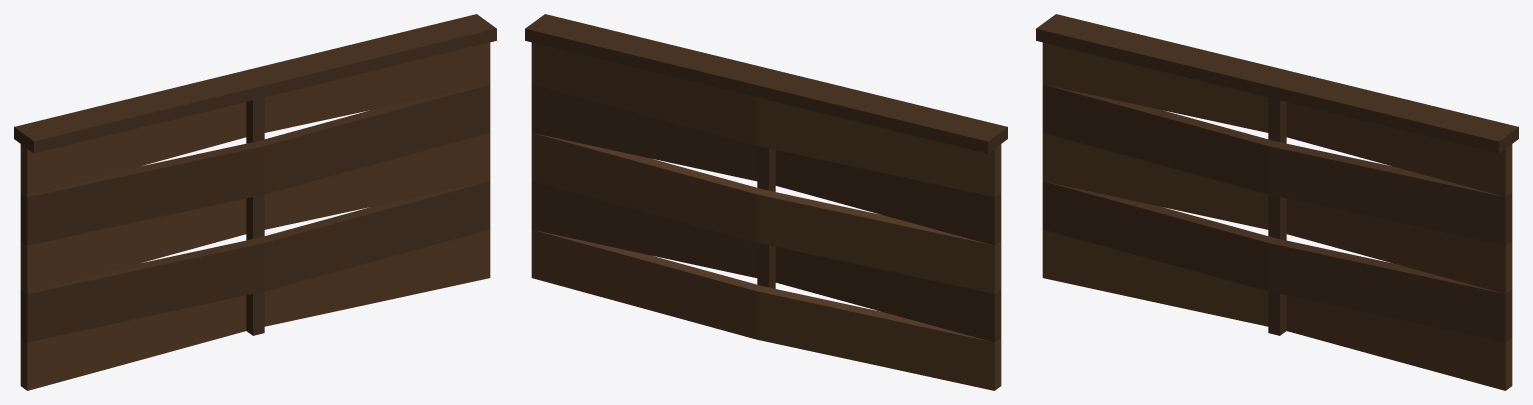
File: Fence_13_Dark_Brown.fbx
3 views of the same model, side by side, from view 1: azimuth 30°, elevation 25°; view 2: azimuth 150°, elevation 25°; view 3: azimuth 330°, elevation 25° (orthographic).
Parts seen in each view (by area): view 1: Fence_13_Dark_Brown; view 2: Fence_13_Dark_Brown; view 3: Fence_13_Dark_Brown.
Boxes of the visible parts, left/top/right/bottom form: Fence_13_Dark_Brown: left=14, top=14, right=496, bottom=390; Fence_13_Dark_Brown: left=525, top=14, right=1007, bottom=390; Fence_13_Dark_Brown: left=1036, top=14, right=1518, bottom=390.
Bounding box in the file's own units: 200 × 105 × 15.28.
